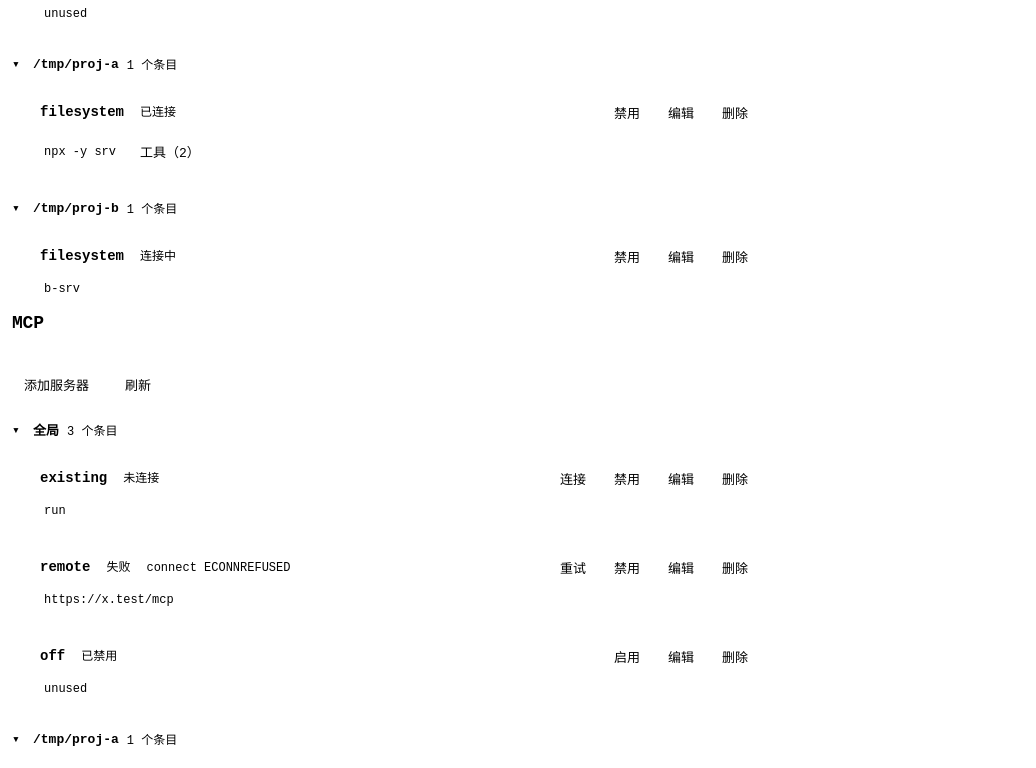
Scenario: McpView form (add / edit / move / delete) › sends the session workdir as a query param and defaults the target to the server defaultGroup
(page scrolled)
Click the button with test id "mcp-add". click: [56, 384]
box: [12, 369, 101, 400]
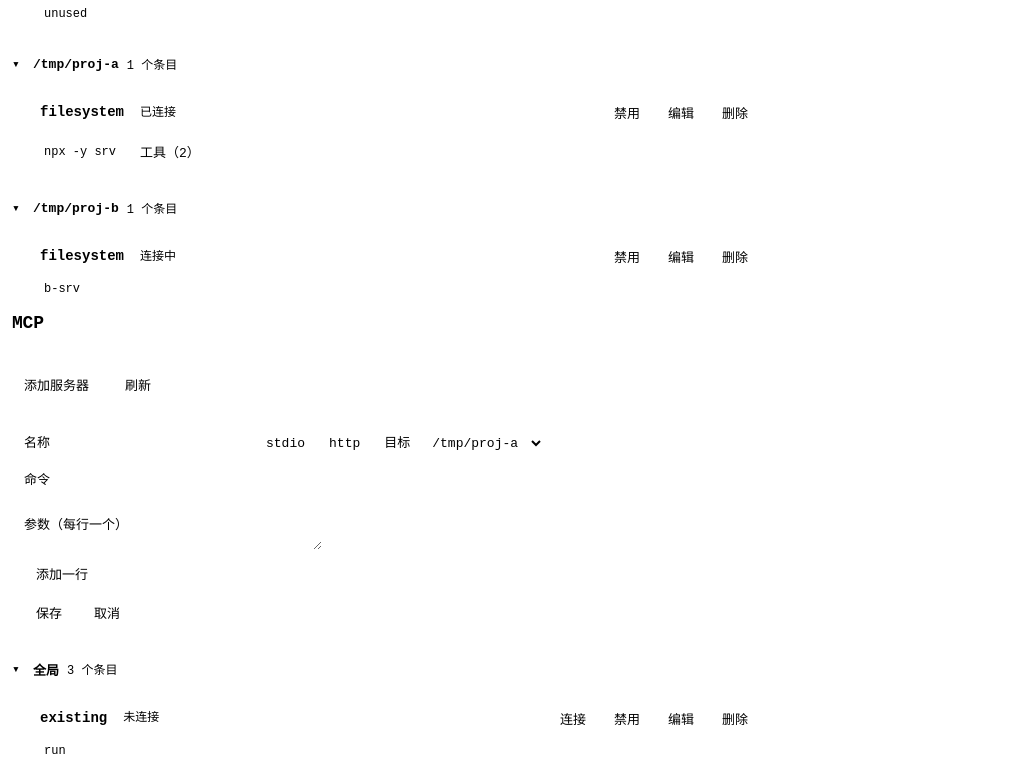
Expected: the dropdown with test id "mcp-form-group" shows "/tmp/proj-a", [418, 428, 544, 459]
